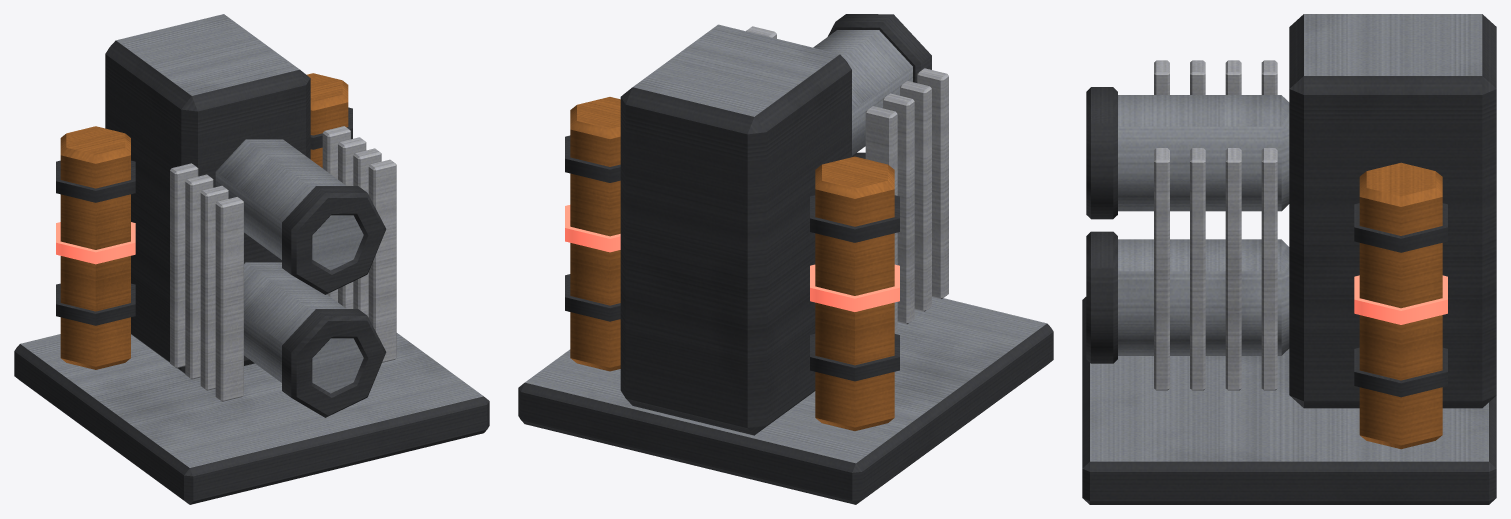
The model's file is R4X_DoubleShotOverdrive_LOD1.glb.
3 renders of one model, left to right at view 1: azimuth 30°, elevation 25°; view 2: azimuth 150°, elevation 25°; view 3: azimuth 270°, elevation 25°, orthographic. The views are drawn at different scales.
Visible parts, largest first — view 1: R4X_DoubleShotOverdrive_LOD1; view 2: R4X_DoubleShotOverdrive_LOD1; view 3: R4X_DoubleShotOverdrive_LOD1.
Part boxes in pixels (<box>): R4X_DoubleShotOverdrive_LOD1: <box>14,14,489,504</box>; R4X_DoubleShotOverdrive_LOD1: <box>518,14,1053,504</box>; R4X_DoubleShotOverdrive_LOD1: <box>1082,14,1496,504</box>.
Bounding box in the file's own units: 0.52 × 0.52 × 0.52.
Materials: 5 (4 with a texture image).
